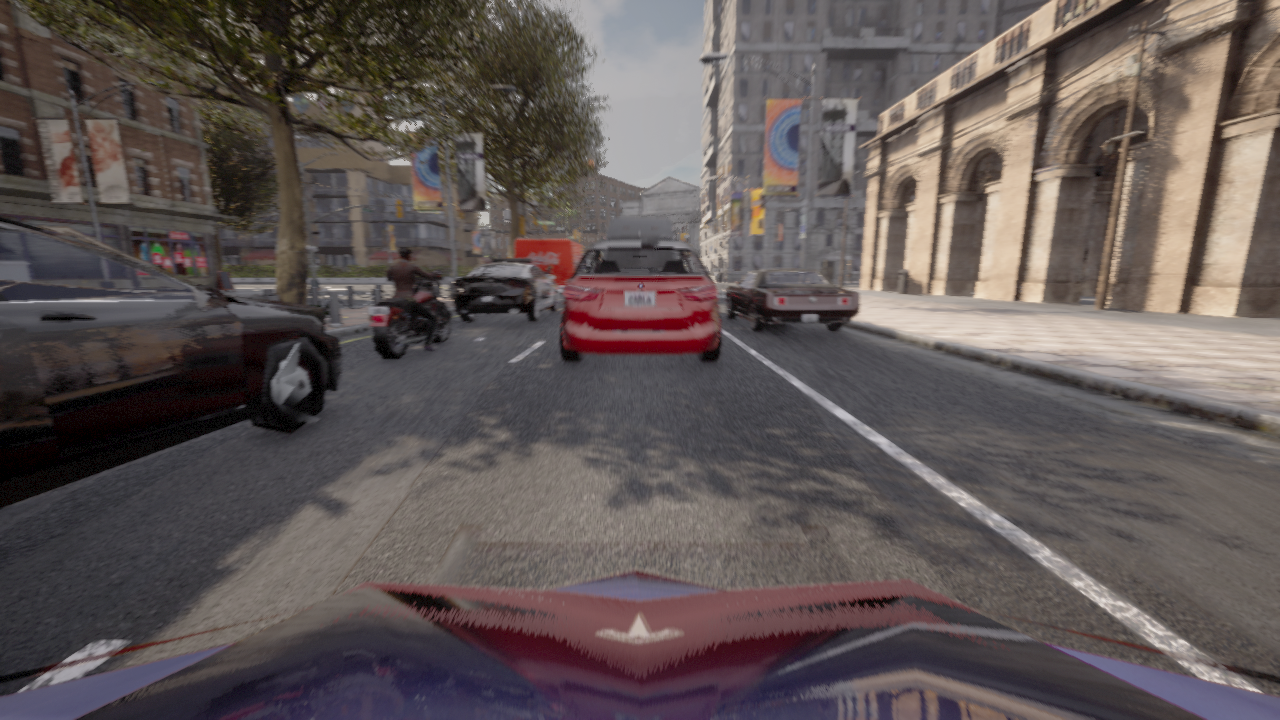cyclist: (0, 569, 1279, 719), (559, 240, 721, 361), (725, 269, 859, 331), (368, 270, 451, 359), (454, 258, 558, 321), (514, 239, 581, 294), (605, 218, 674, 239)
